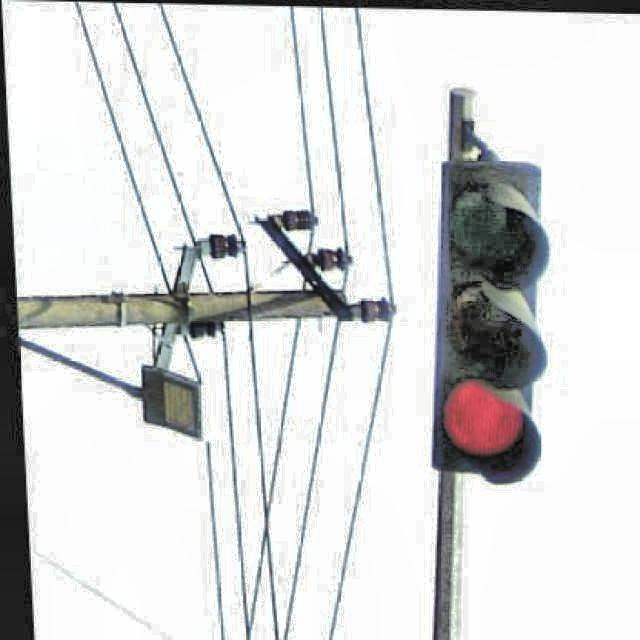red: (438, 154, 546, 491)
